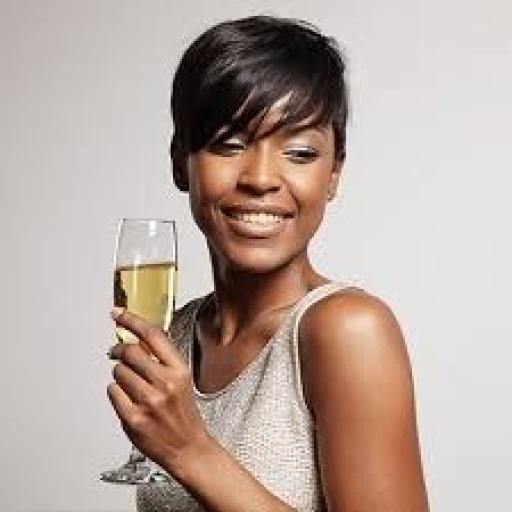drinking: (97, 92, 396, 486)
